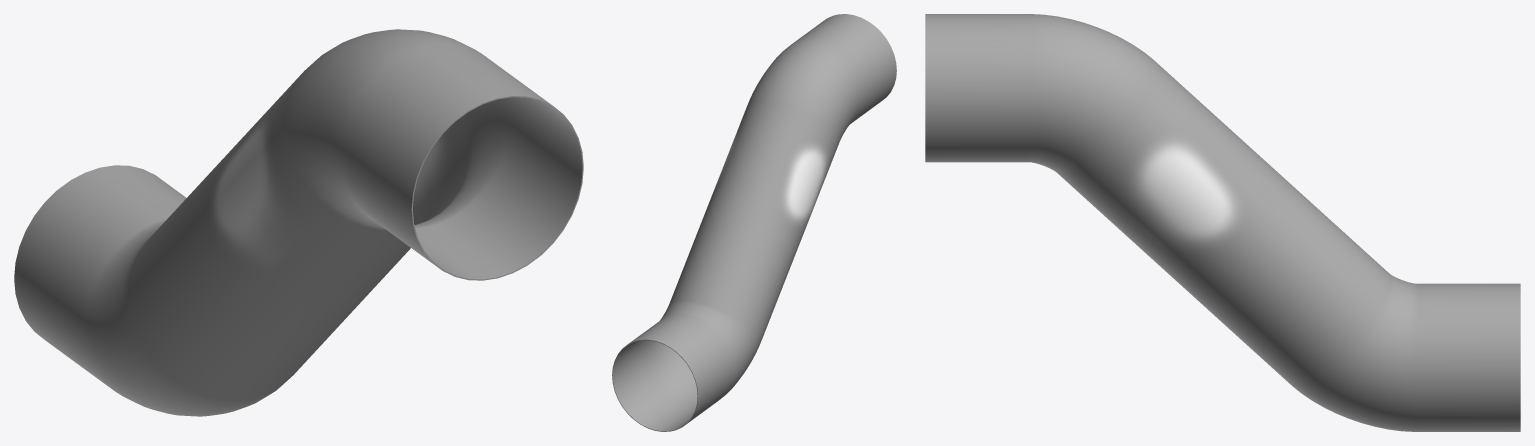
File: Medium slide tube.fbx
3 renders of one model, left to right at view 1: azimuth 30°, elevation 25°; view 2: azimuth 150°, elevation 25°; view 3: azimuth 270°, elevation 25°, orthographic. The views are drawn at different scales.
Visible parts, largest first — view 1: Medium slide tube.001; view 2: Medium slide tube.001; view 3: Medium slide tube.001.
Boxes of the visible parts, x1,y1,x2,y2 form: Medium slide tube.001: [14, 29, 583, 416]; Medium slide tube.001: [612, 14, 896, 431]; Medium slide tube.001: [925, 14, 1520, 431].
Bounding box in the file's own units: 600 × 1800 × 2400.
